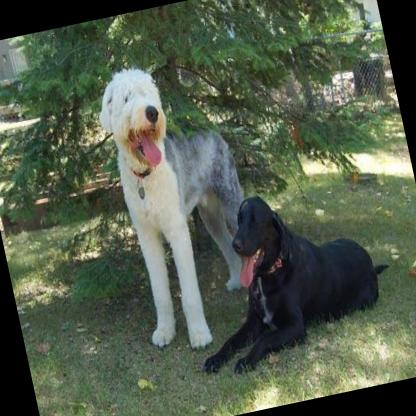Old_English_sheepdog: (87, 46, 274, 360)
